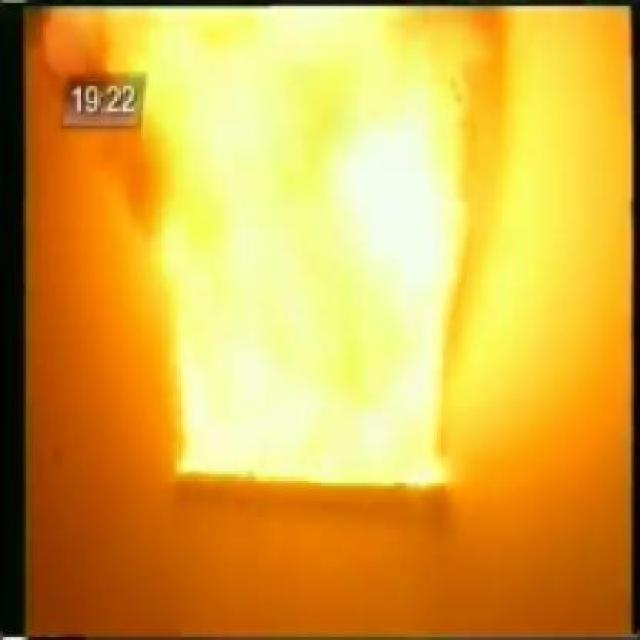fire: (63, 0, 542, 530)
